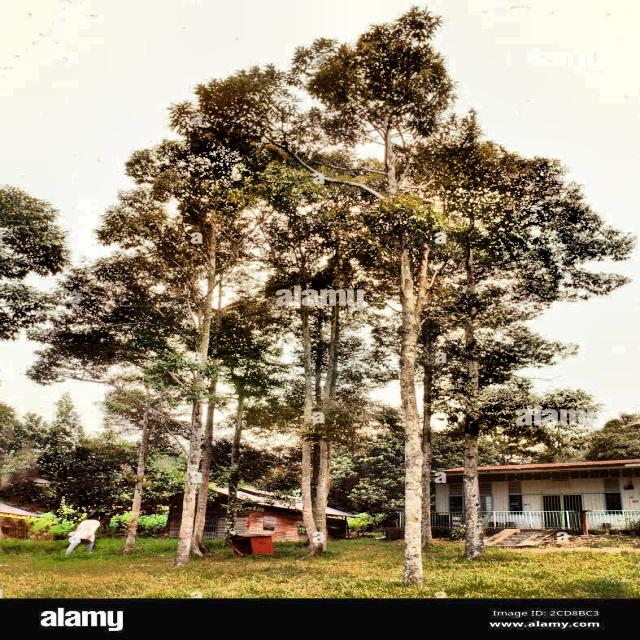arvore: (379, 234, 437, 593), (280, 380, 343, 559), (456, 317, 500, 566), (181, 317, 213, 569), (112, 434, 148, 560)
